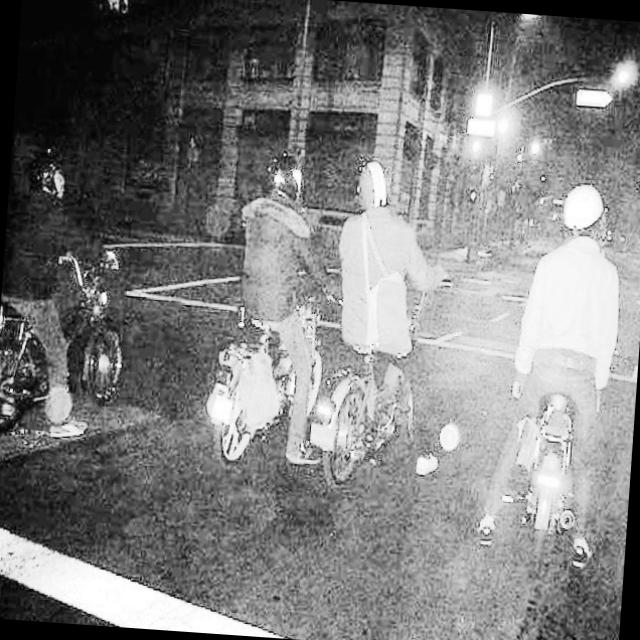Motorcycle: (298, 246, 460, 492), (0, 231, 156, 462), (200, 276, 340, 474), (494, 358, 606, 561)
